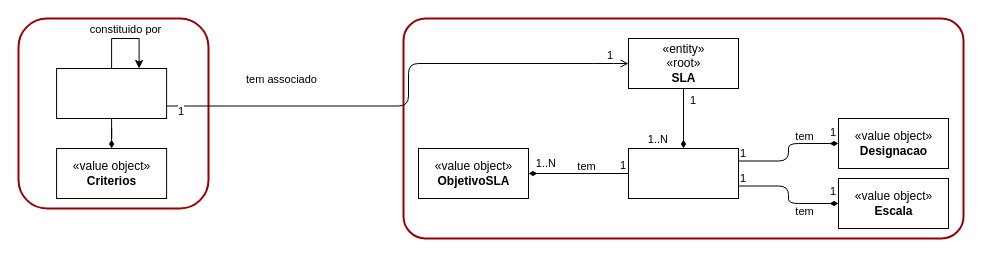
The diagram is 981 pixels wide and 256 high, and some of its shapes have lost their labels. Here are the shapes that lost their labels. From the top down, the centre of each, then its label:
At (111,93): "«entity» «root» Catalogo".
At (683,173): "«entity» NivelCriticidade".
